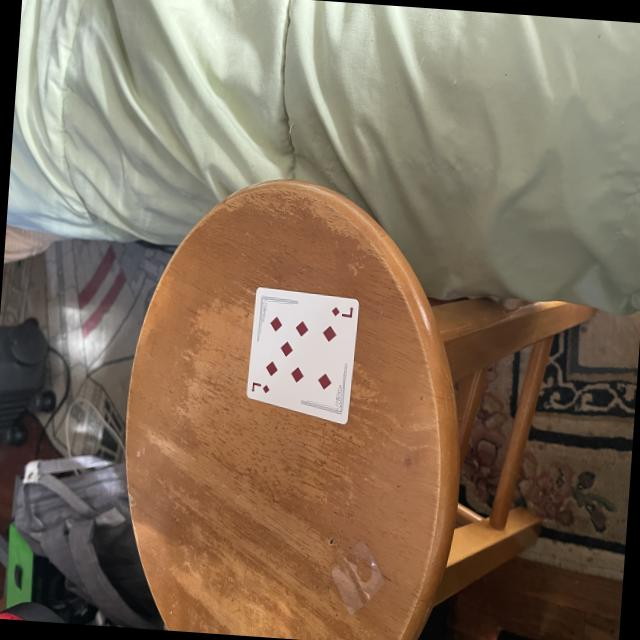7 of diamonds: (246, 287, 358, 422)
